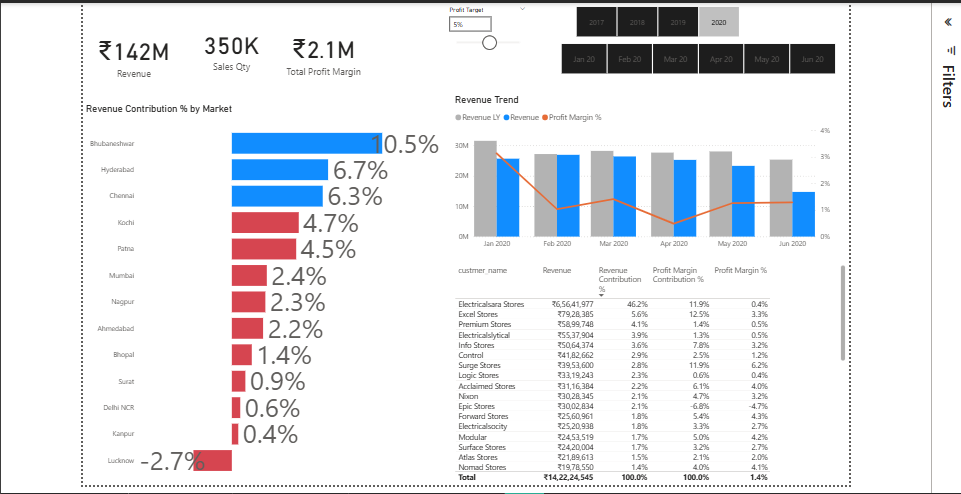

What the dashboard file says about the page in this screenshot:
{"tool":"powerbi","page":{"name":"Profit Analysis","canvas":[1350,850],"ordinal":1},"visuals":[{"type":"card","fields":{"Values":["BaseMeasures (2).Revenue"]},"box":[0,0,179.6,184.8],"z":0},{"type":"card","fields":{"Values":["BaseMeasures (2).Sales Qty"]},"box":[179.6,0,164.1,193],"z":1000},{"type":"barChart","title":"Profit % by market","fields":{"Y":["BaseMeasures (2).Profit Margin %"],"Category":["sales markets.markets_name"]},"box":[464.5,184.8,230.2,664.8],"z":2000},{"type":"barChart","title":"Profit Contribution % by Market","fields":{"Y":["BaseMeasures (2).Profit Margin Contribution %"],"Category":["sales markets.markets_name"]},"box":[221.9,185.8,208.5,659.6],"z":3000},{"type":"slicer","fields":{"Values":["sales date.year"]},"box":[483.2,0,335.5,66.5],"z":4000},{"type":"slicer","fields":{"Values":["sales date.cy_date"]},"box":[818.6,0,531.7,66.5],"z":5000},{"type":"tableEx","title":"Top 5 Customers","fields":{"Values":["sales customers.custmer_name","BaseMeasures (2).Revenue","BaseMeasures (2).Revenue Contribution %","BaseMeasures (2).Profit Margin Contribution %","BaseMeasures (2).Profit Margin %"]},"box":[701.9,454.2,648.3,395.4],"z":6000},{"type":"lineChart","title":"Revenue Trend","fields":{"Y":["BaseMeasures (2).Revenue"],"Category":["sales date.cy_date"]},"box":[701.9,104.3,621.4,338.6],"z":7000},{"type":"card","fields":{"Values":["BaseMeasures (2).Total Profit Margin"]},"box":[349.9,0,161,176.5],"z":8000},{"type":"barChart","title":"Revenue Contribution % by Market","fields":{"Y":["BaseMeasures (2).Revenue Contribution %"],"Category":["sales markets.markets_name"]},"box":[0,185.8,219.9,654.5],"z":9000}]}

Visuals, with their boxes on the page's 1350x850 design canvas (x1, y1, x2, y2). These are canvas units, not pixel positions in the 961x494 screenshot, which may show the page scaled, cropped or inside an application window:
card - BaseMeasures (2).Revenue: rect(0, 0, 180, 185)
card - BaseMeasures (2).Sales Qty: rect(180, 0, 344, 193)
"Profit % by market" barChart: rect(464, 185, 695, 850)
"Profit Contribution % by Market" barChart: rect(222, 186, 430, 845)
slicer - sales date.year: rect(483, 0, 819, 66)
slicer - sales date.cy_date: rect(819, 0, 1350, 66)
"Top 5 Customers" tableEx: rect(702, 454, 1350, 850)
"Revenue Trend" lineChart: rect(702, 104, 1323, 443)
card - BaseMeasures (2).Total Profit Margin: rect(350, 0, 511, 176)
"Revenue Contribution % by Market" barChart: rect(0, 186, 220, 840)
